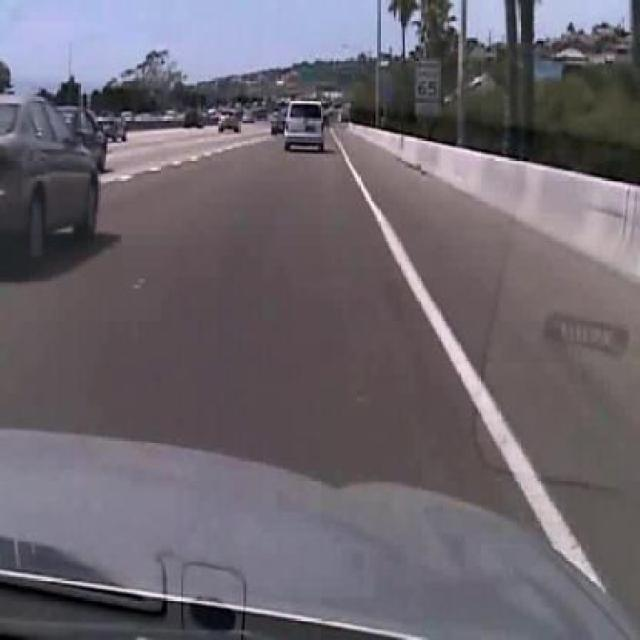speedLimit65: (414, 57, 440, 101)
